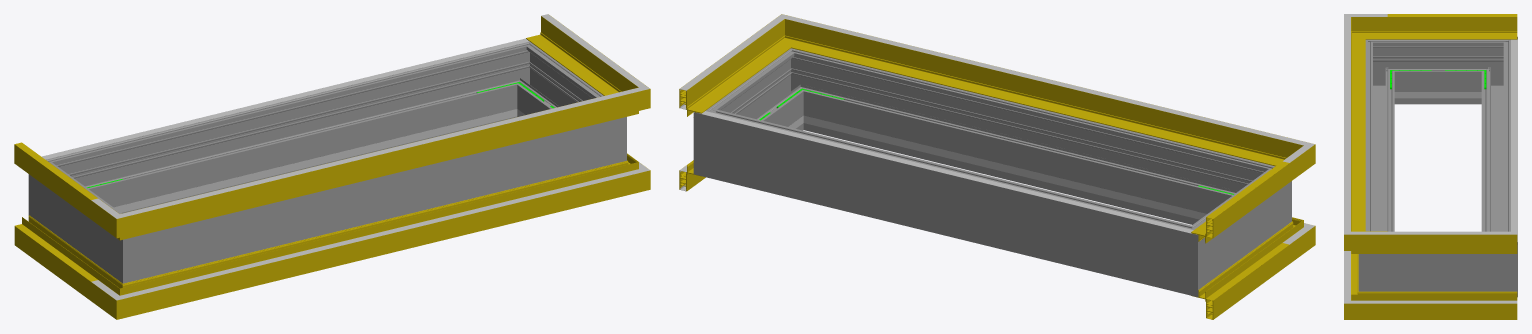
3 renders of one model, left to right at view 1: azimuth 30°, elevation 25°; view 2: azimuth 150°, elevation 25°; view 3: azimuth 270°, elevation 25°, orthographic. The views are drawn at different scales.
Parts seen in each view (by area): view 1: 3DGeom-276, 3DGeom-298, 3DGeom-90, 3DGeom-56, 3DGeom-270, 3DGeom-244, 3DGeom-85, 3DGeom-58, 3DGeom-284, 3DGeom-220, 3DGeom-86, 3DGeom-290 (+12 smaller); view 2: 3DGeom-298, 3DGeom-276, 3DGeom-56, 3DGeom-278, 3DGeom-284, 3DGeom-85, 3DGeom-58, 3DGeom-239, 3DGeom-290, 3DGeom-297, 3DGeom-220, 3DGeom-66 (+10 smaller); view 3: 3DGeom-276, 3DGeom-298, 3DGeom-268, 3DGeom-97, 3DGeom-50, 3DGeom-56, 3DGeom-297, 3DGeom-58, 3DGeom-284, 3DGeom-278, 3DGeom-290, 3DGeom-270 (+15 smaller).
Part boxes in pixels (box(x1,y1,x2,y2)): 3DGeom-276: box(77, 50, 509, 213); 3DGeom-298: box(167, 127, 582, 272); 3DGeom-90: box(153, 168, 605, 308); 3DGeom-56: box(157, 99, 605, 231); 3DGeom-270: box(97, 206, 167, 283); 3DGeom-244: box(130, 119, 474, 210); 3DGeom-85: box(14, 215, 105, 300); 3DGeom-58: box(526, 16, 619, 94); 3DGeom-284: box(492, 41, 551, 118); 3DGeom-220: box(42, 38, 529, 159); 3DGeom-86: box(91, 271, 161, 319); 3DGeom-290: box(582, 88, 626, 171); 3DGeom-298: box(811, 57, 1243, 224); 3DGeom-276: box(738, 117, 1161, 286); 3DGeom-56: box(813, 28, 1266, 161); 3DGeom-278: box(1153, 213, 1223, 297); 3DGeom-284: box(693, 95, 746, 184); 3DGeom-85: box(1191, 234, 1289, 319); 3DGeom-58: box(679, 35, 778, 116); 3DGeom-239: box(846, 126, 1190, 217); 3DGeom-290: box(769, 48, 828, 131); 3DGeom-297: box(727, 64, 799, 129); 3DGeom-220: box(701, 111, 1193, 233); 3DGeom-66: box(822, 25, 1270, 136); 3DGeom-276: box(1481, 55, 1510, 231); 3DGeom-298: box(1365, 55, 1394, 231); 3DGeom-268: box(1402, 39, 1474, 104); 3DGeom-97: box(1387, 291, 1517, 319); 3DGeom-50: box(1387, 17, 1517, 39); 3DGeom-56: box(1351, 32, 1365, 231); 3DGeom-297: box(1402, 254, 1474, 291); 3DGeom-58: box(1387, 234, 1517, 253); 3DGeom-284: box(1474, 226, 1517, 297); 3DGeom-278: box(1474, 36, 1517, 104); 3DGeom-290: box(1358, 226, 1401, 291); 3DGeom-270: box(1365, 39, 1401, 104).
Bounding box in the file's own units: 1.83 × 0.3303 × 0.6096.
